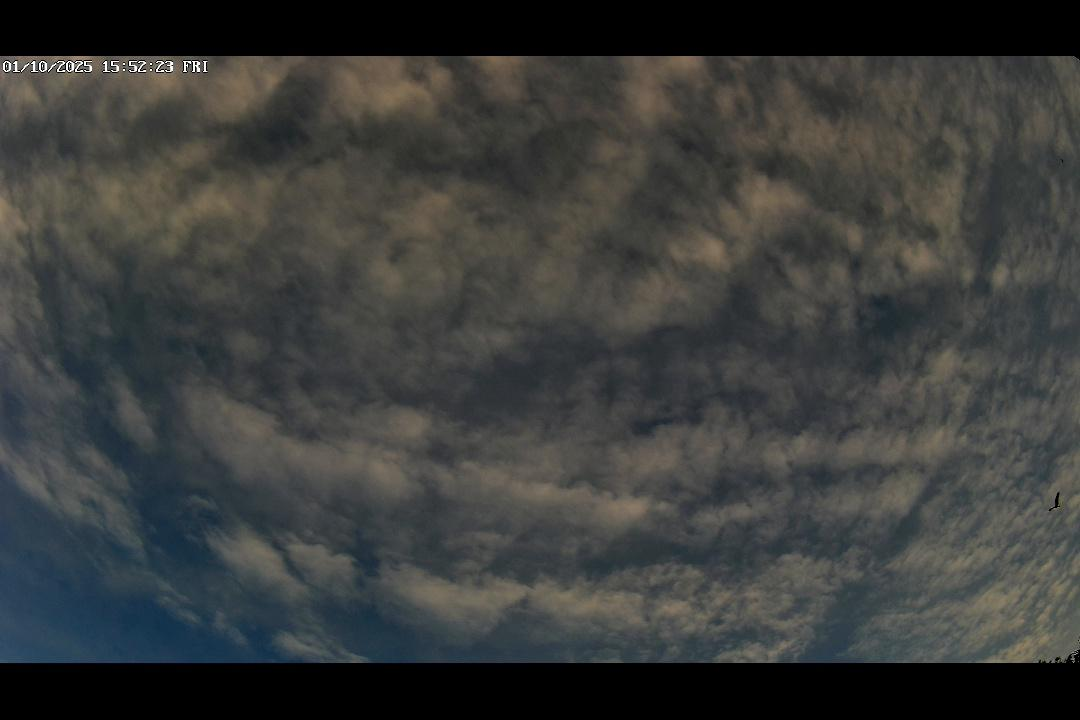WildLife: (1040, 490, 1067, 513)
